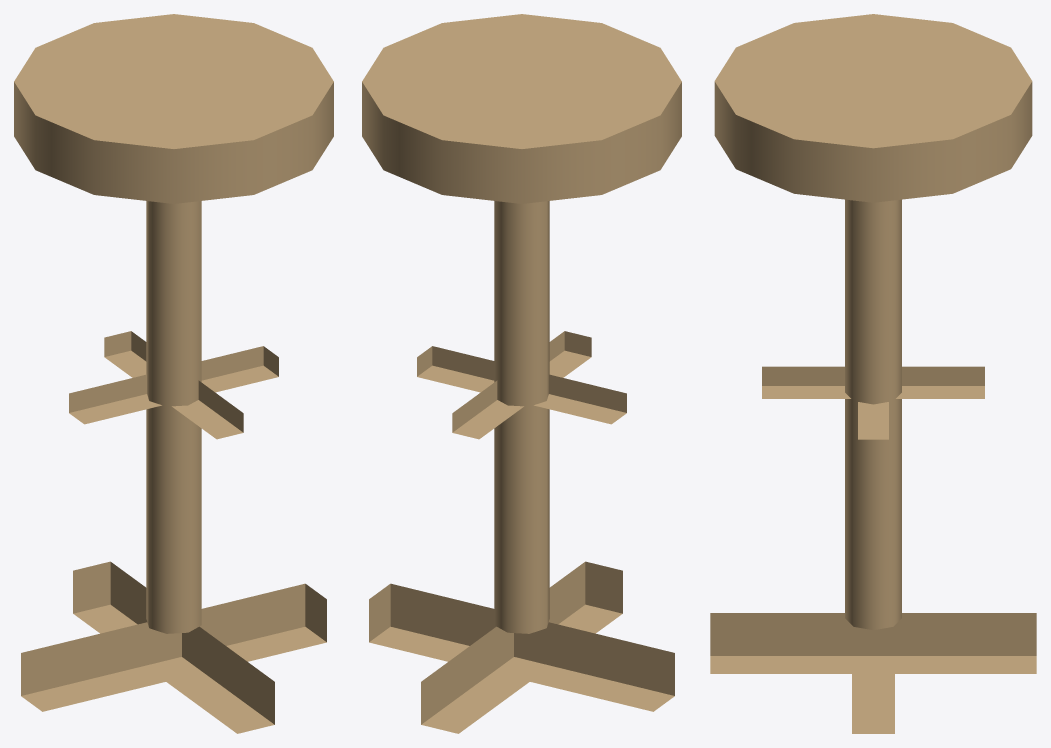
File: bar-stool.glb
3 renders of one model, left to right at view 1: azimuth 30°, elevation 25°; view 2: azimuth 150°, elevation 25°; view 3: azimuth 270°, elevation 25°, orthographic.
Bounding box in the file's own units: 0.38 × 0.75 × 0.38.
